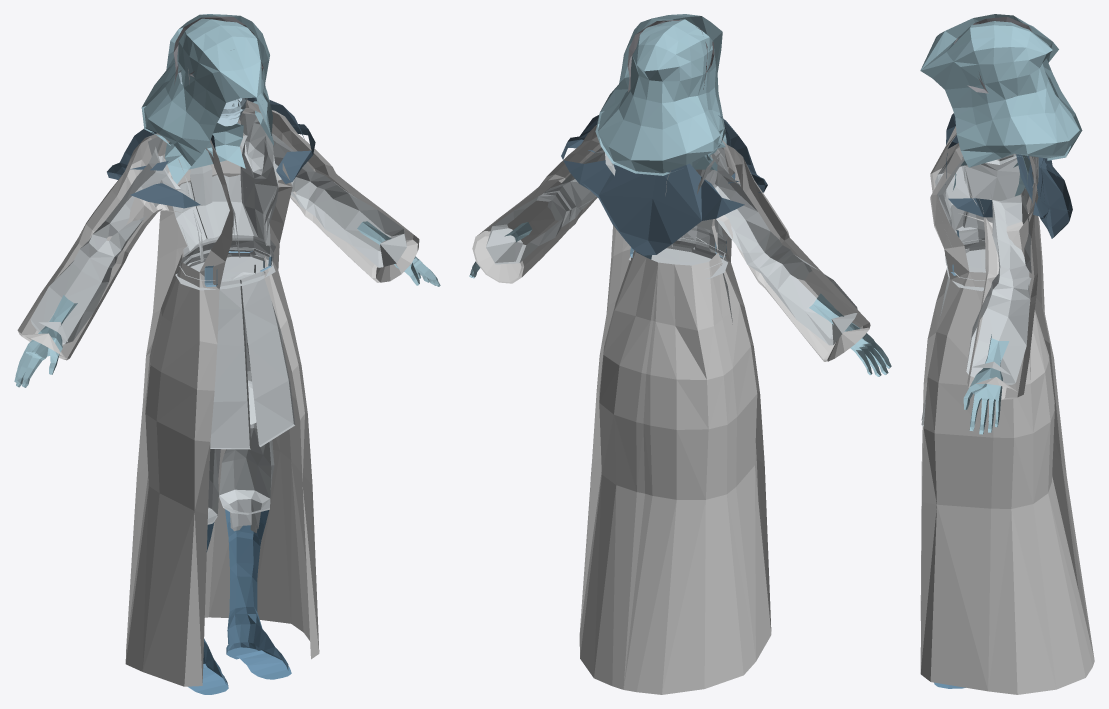
The model's file is fink.glb.
3 renders of one model, left to right at view 1: azimuth 30°, elevation 25°; view 2: azimuth 150°, elevation 25°; view 3: azimuth 270°, elevation 25°, orthographic.
Parts seen in each view (by area): view 1: bg_00_outfit__option_01_jedi_cloak.smd__mesh_05, bg_00_outfit__option_00_sleeves.smd__mesh_01, bg_00_outfit__option_02_jedi_cloak_hooded.smd__mesh_06, bg_00_outfit__option_00_sleeves.smd__mesh_00, bg_00_outfit__option_00_sleeves.smd__mesh_02, bg_00_outfit__option_01_jedi_cloak.smd__mesh_06, bg_00_outfit__option_01_jedi_cloak.smd__mesh_02, bg_00_outfit__option_01_jedi_cloak.smd__mesh_01; view 2: bg_00_outfit__option_01_jedi_cloak.smd__mesh_05, bg_00_outfit__option_02_jedi_cloak_hooded.smd__mesh_06, bg_00_outfit__option_00_sleeves.smd__mesh_01, bg_00_outfit__option_01_jedi_cloak.smd__mesh_06, bg_00_outfit__option_00_sleeves.smd__mesh_00; view 3: bg_00_outfit__option_01_jedi_cloak.smd__mesh_05, bg_00_outfit__option_02_jedi_cloak_hooded.smd__mesh_06, bg_00_outfit__option_00_sleeves.smd__mesh_01, bg_00_outfit__option_01_jedi_cloak.smd__mesh_06, bg_00_outfit__option_00_sleeves.smd__mesh_00, bg_00_outfit__option_00_sleeves.smd__mesh_05.
Boxes of the visible parts, x1=… form: bg_00_outfit__option_01_jedi_cloak.smd__mesh_05: x1=17, y1=100, x2=419, y2=686; bg_00_outfit__option_00_sleeves.smd__mesh_01: x1=30, y1=113, x2=406, y2=528; bg_00_outfit__option_02_jedi_cloak_hooded.smd__mesh_06: x1=141, y1=14, x2=273, y2=165; bg_00_outfit__option_00_sleeves.smd__mesh_00: x1=14, y1=123, x2=440, y2=387; bg_00_outfit__option_00_sleeves.smd__mesh_02: x1=188, y1=510, x2=291, y2=694; bg_00_outfit__option_01_jedi_cloak.smd__mesh_06: x1=107, y1=97, x2=315, y2=208; bg_00_outfit__option_01_jedi_cloak.smd__mesh_02: x1=207, y1=509, x2=269, y2=611; bg_00_outfit__option_01_jedi_cloak.smd__mesh_01: x1=195, y1=124, x2=278, y2=532; bg_00_outfit__option_01_jedi_cloak.smd__mesh_05: x1=472, y1=125, x2=870, y2=694; bg_00_outfit__option_02_jedi_cloak_hooded.smd__mesh_06: x1=595, y1=14, x2=726, y2=175; bg_00_outfit__option_00_sleeves.smd__mesh_01: x1=486, y1=147, x2=857, y2=345; bg_00_outfit__option_01_jedi_cloak.smd__mesh_06: x1=561, y1=115, x2=767, y2=255; bg_00_outfit__option_00_sleeves.smd__mesh_00: x1=469, y1=154, x2=891, y2=376; bg_00_outfit__option_01_jedi_cloak.smd__mesh_05: x1=920, y1=126, x2=1094, y2=694; bg_00_outfit__option_02_jedi_cloak_hooded.smd__mesh_06: x1=920, y1=14, x2=1082, y2=167; bg_00_outfit__option_00_sleeves.smd__mesh_01: x1=921, y1=145, x2=1038, y2=426; bg_00_outfit__option_01_jedi_cloak.smd__mesh_06: x1=945, y1=113, x2=1072, y2=238; bg_00_outfit__option_00_sleeves.smd__mesh_00: x1=953, y1=155, x2=1030, y2=434; bg_00_outfit__option_00_sleeves.smd__mesh_05: x1=954, y1=16, x2=1032, y2=93.
Bounding box in the file's own units: 44.91 × 65.89 × 16.1.
